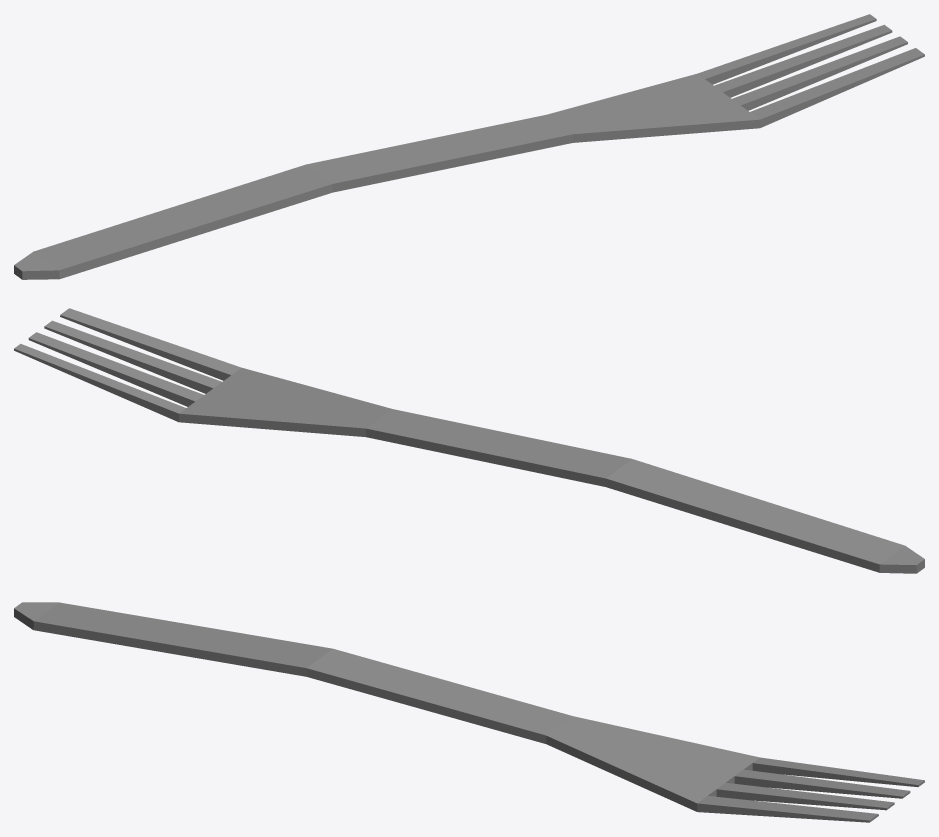
The model's file is Fork.obj.
3 renders of one model, top to bottom at view 1: azimuth 30°, elevation 25°; view 2: azimuth 150°, elevation 25°; view 3: azimuth 330°, elevation 25°, orthographic.
Parts seen in each view (by area): view 1: Fork_Cube.002; view 2: Fork_Cube.002; view 3: Fork_Cube.002.
Boxes of the visible parts, x1,y1,x2,y2 form: Fork_Cube.002: [14, 14, 924, 279]; Fork_Cube.002: [14, 308, 924, 573]; Fork_Cube.002: [14, 602, 924, 822].
Bounding box in the file's own units: 0.1028 × 0.00343 × 0.0127.
Materials: 1 (1 with a texture image).
